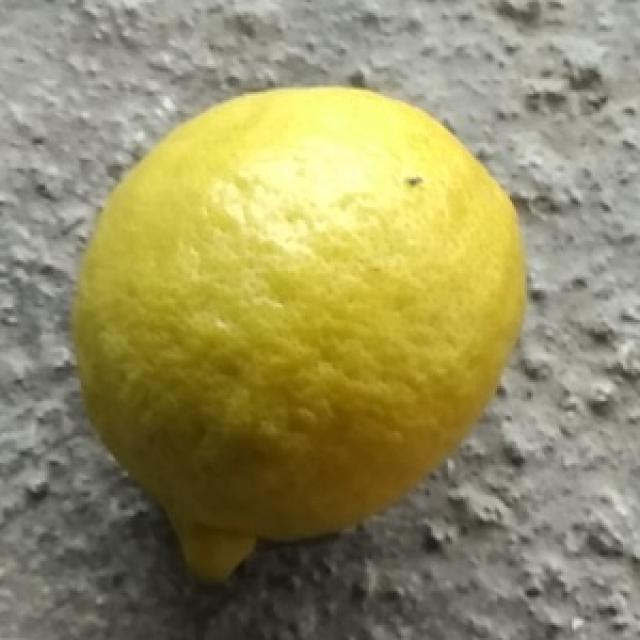Ripe: (68, 82, 534, 585)
